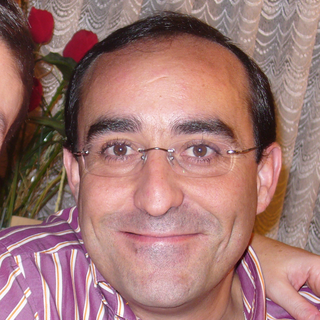eye: (178, 139, 225, 164), (97, 140, 144, 162)
